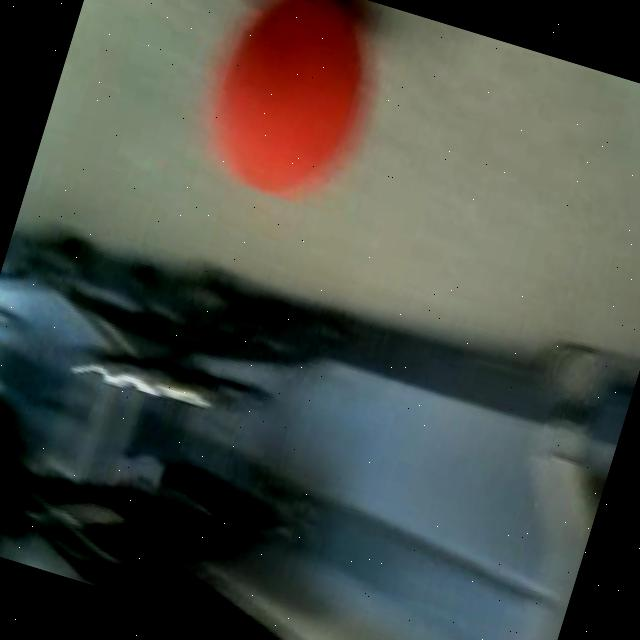ping-pong-ball: (171, 0, 406, 224)
